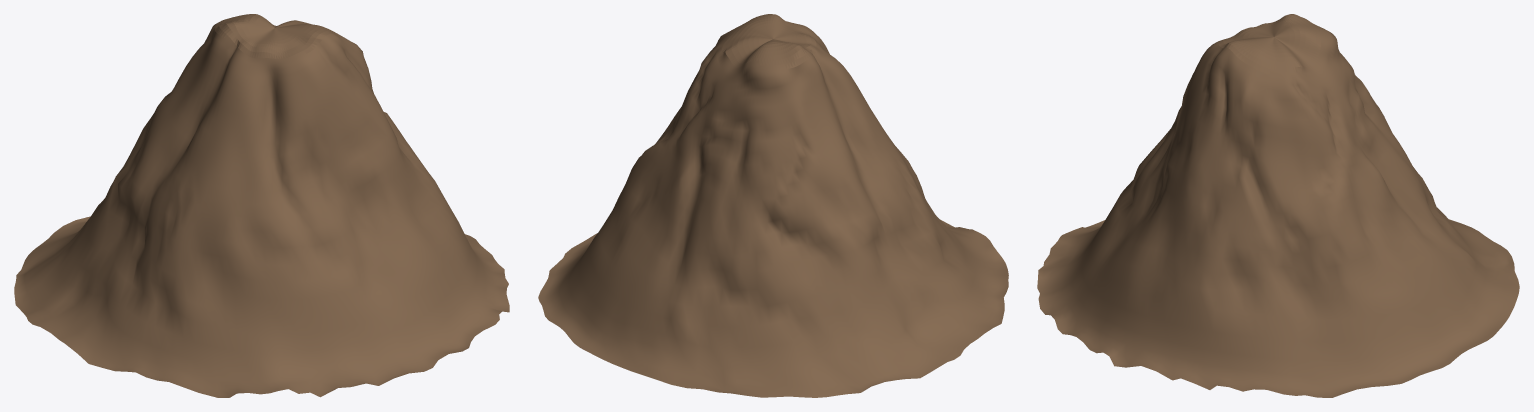
File: mountain-v5.glb
The picture shows the model from 3 angles, left to right: view 1: azimuth 30°, elevation 25°; view 2: azimuth 150°, elevation 25°; view 3: azimuth 270°, elevation 25°; orthographic projection. The views are drawn at different scales.
Visible parts, largest first — view 1: hill_v4_6; view 2: hill_v4_6; view 3: hill_v4_6.
Boxes of the visible parts, box(x1,y1,x2,y2) form: hill_v4_6: box(14, 14, 509, 397); hill_v4_6: box(538, 14, 1008, 397); hill_v4_6: box(1037, 14, 1519, 397).
Size of the model in its own units: 2.14 by 1.33 by 2.15.
